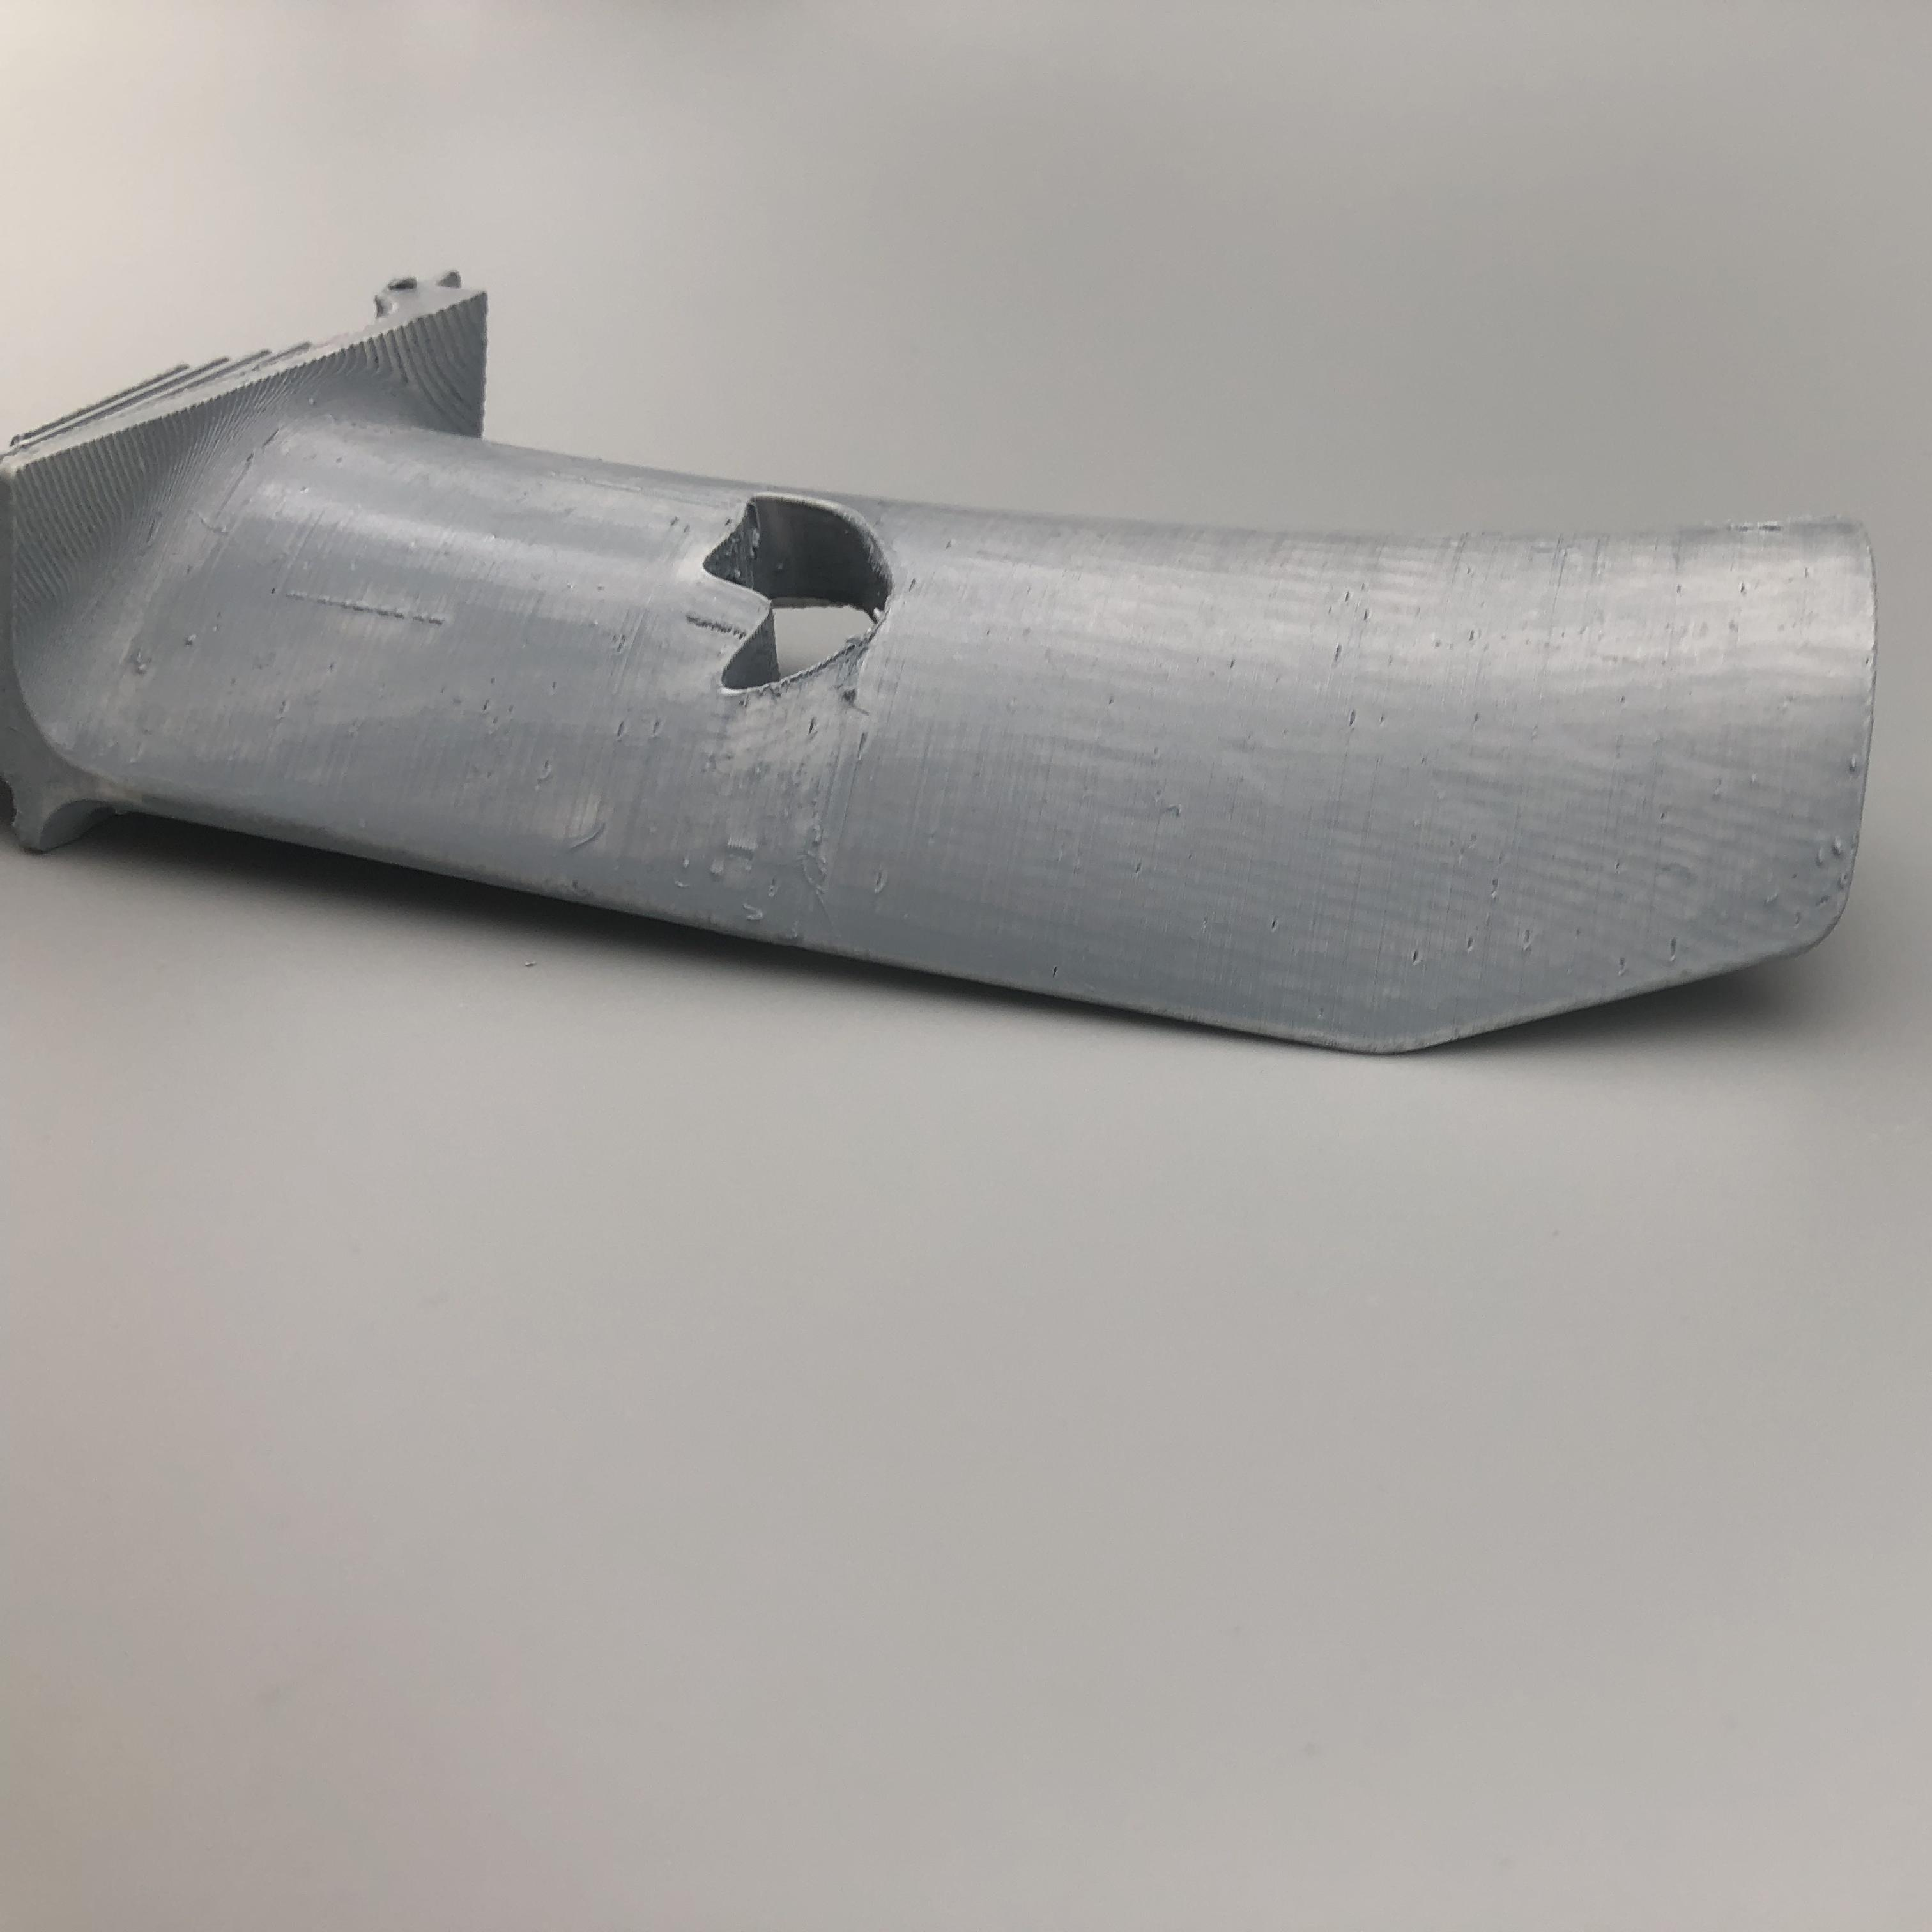breakdown: (683, 488, 938, 702)
